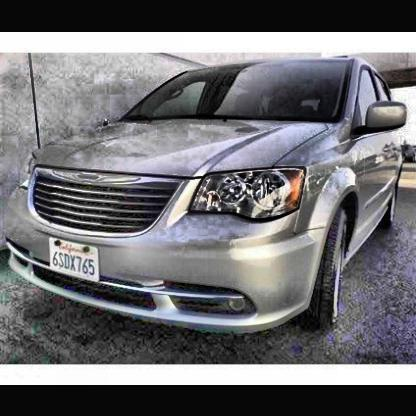Chrysler Town and Country Minivan 2012: (5, 56, 410, 335)
